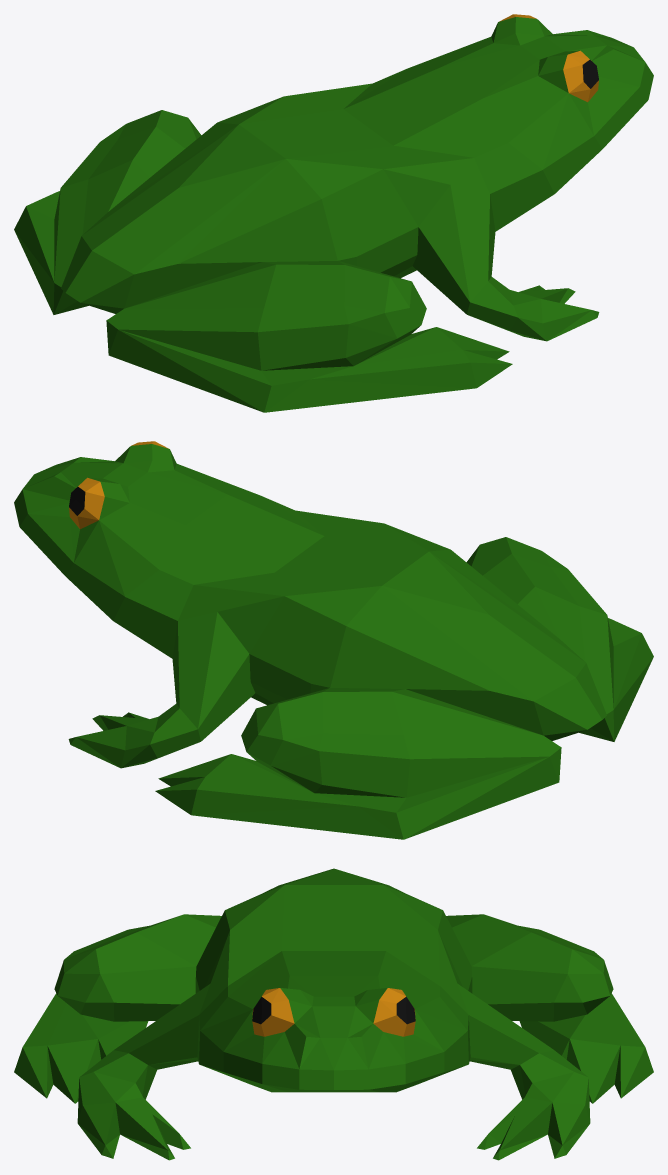
Rendered from Frog.obj.
3 renders of one model, top to bottom at view 1: azimuth 30°, elevation 25°; view 2: azimuth 150°, elevation 25°; view 3: azimuth 270°, elevation 25°, orthographic. The views are drawn at different scales.
Visible parts, largest first — view 1: Frog; view 2: Frog; view 3: Frog.
Part boxes in pixels (box(x1,y1,x2,y2)): Frog: box(14, 14, 653, 412); Frog: box(14, 441, 653, 839); Frog: box(14, 868, 653, 1160).
Bounding box in the file's own units: 276 × 85.69 × 254.
